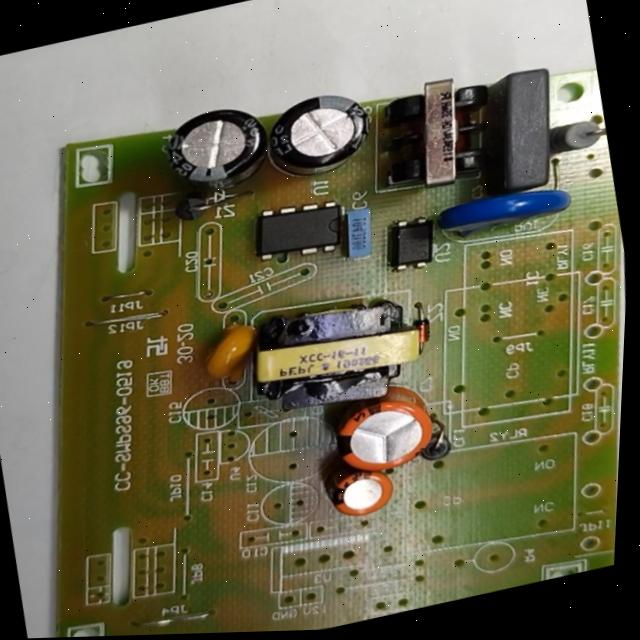Cap1: (316, 373, 459, 490)
Cap2: (318, 460, 403, 529)
Cap3: (251, 79, 389, 194)
Cap4: (146, 93, 284, 210)
MOSFET: (237, 186, 364, 276)
Mov: (422, 165, 586, 255)
Resistor: (547, 113, 611, 165)
Transformer: (223, 276, 447, 434), (354, 59, 516, 207)
